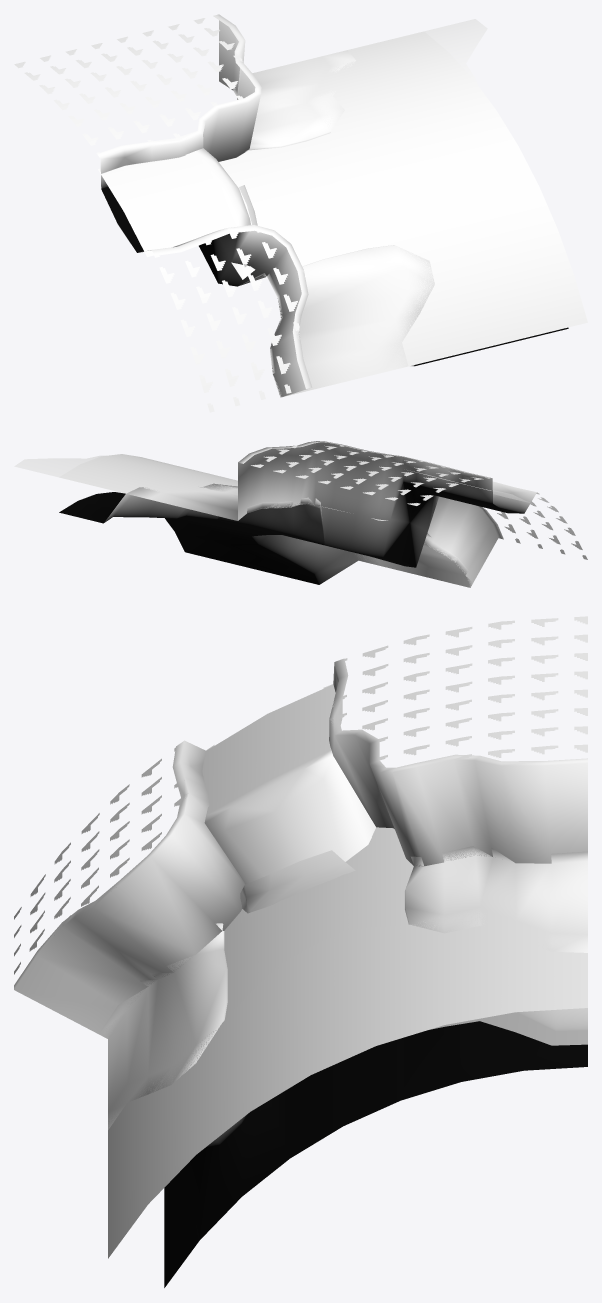
The model's file is grd_Mse_e_R_2.dae.
The picture shows the model from 3 angles, top to bottom: view 1: azimuth 30°, elevation 25°; view 2: azimuth 150°, elevation 25°; view 3: azimuth 270°, elevation 25°; orthographic projection. The views are drawn at different scales.
Visible parts, largest first — view 1: grd_Mse_e_R_2; view 2: grd_Mse_e_R_2; view 3: grd_Mse_e_R_2.
Part boxes in pixels (x1,y1,x2,y2): grd_Mse_e_R_2: [14, 14, 587, 412]; grd_Mse_e_R_2: [14, 441, 587, 587]; grd_Mse_e_R_2: [14, 616, 587, 1287].
Size of the model in its own units: 576 by 308 by 423.
10 materials, 1 textured.
